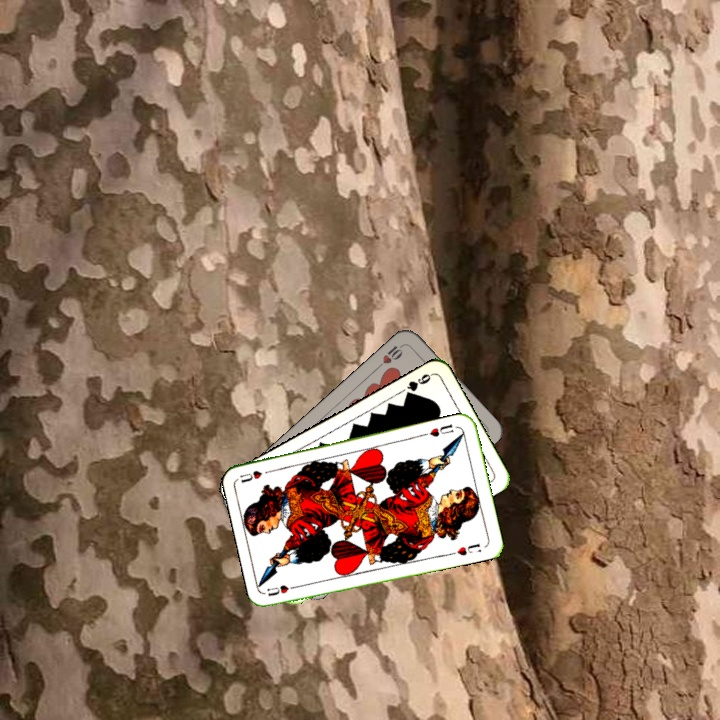G9: (401, 370, 435, 400)
H10: (374, 340, 408, 370)
HU: (263, 581, 303, 599), (420, 420, 456, 439)
